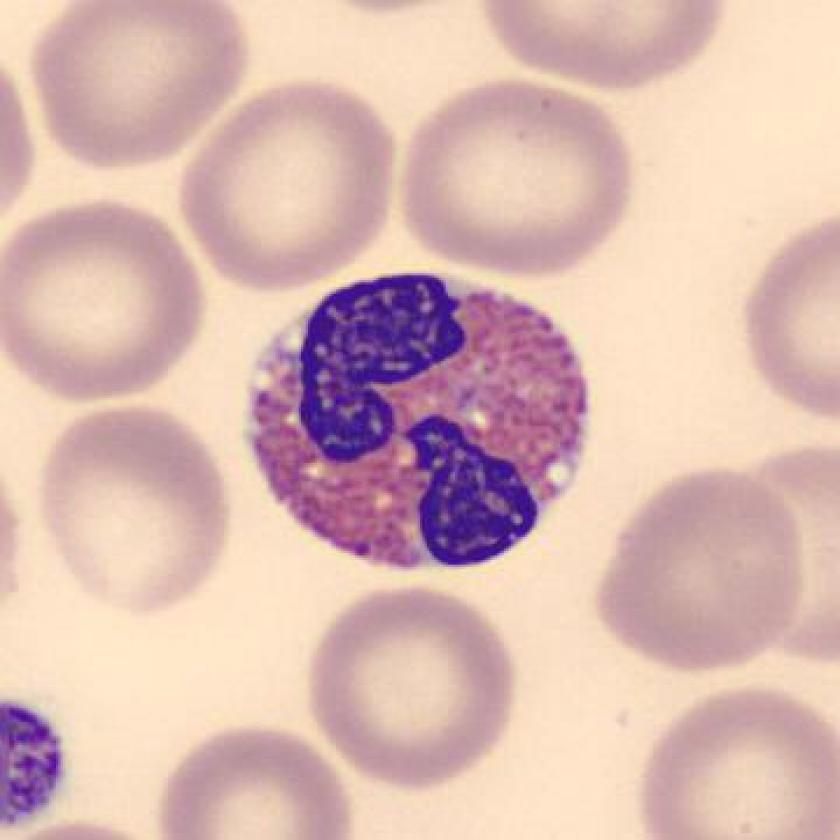eosinophil: (230, 262, 603, 589)
